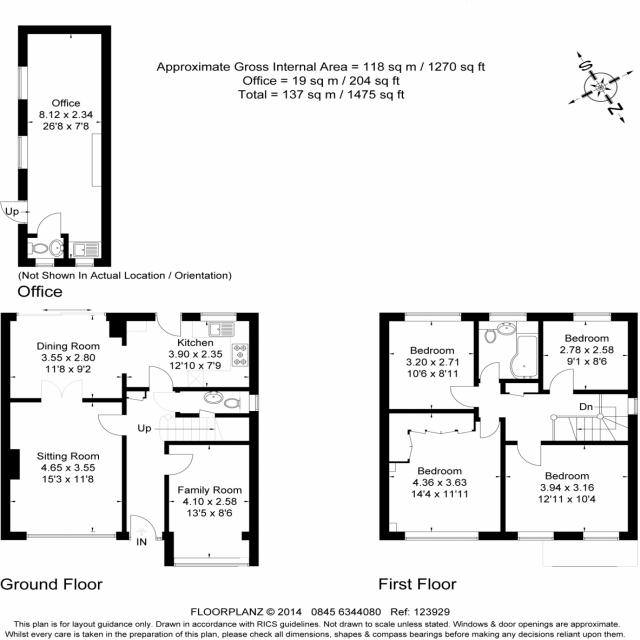DOOR: (127, 514, 163, 540), (96, 413, 127, 437), (0, 199, 28, 225), (154, 312, 183, 337), (448, 385, 479, 408), (516, 440, 542, 467), (147, 365, 174, 391), (164, 453, 194, 476), (548, 368, 574, 394), (36, 212, 62, 238), (152, 391, 180, 413), (479, 417, 500, 439), (479, 362, 500, 383)
DOUBLE DOOR: (39, 377, 85, 403)
ROOM: (1, 312, 259, 403), (0, 379, 127, 541), (379, 409, 506, 540), (500, 440, 638, 541), (164, 440, 259, 566), (379, 312, 479, 413), (538, 312, 638, 395)
WINDOW: (172, 556, 250, 567), (403, 531, 480, 541), (403, 312, 462, 322), (25, 533, 117, 539), (488, 312, 528, 322), (516, 531, 555, 541), (573, 312, 612, 322), (17, 135, 28, 170), (17, 65, 28, 100), (582, 531, 620, 541), (199, 312, 237, 322), (248, 394, 260, 412), (627, 397, 638, 416), (74, 258, 95, 267), (35, 258, 55, 267)
